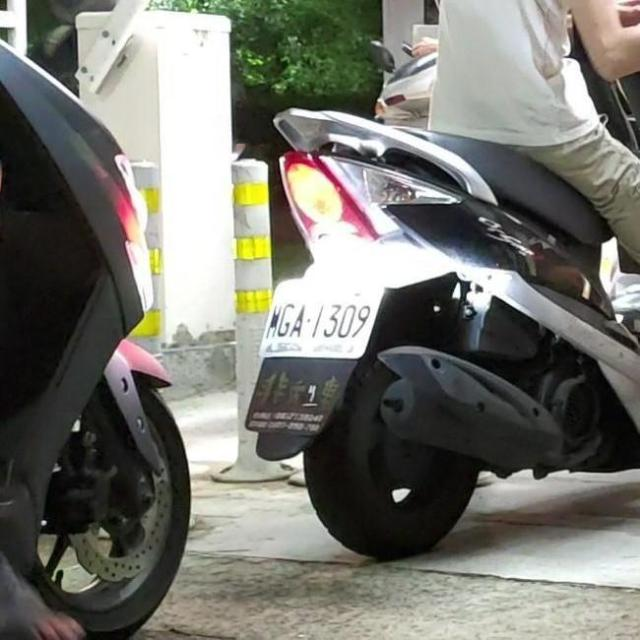W: (257, 269, 386, 366)
